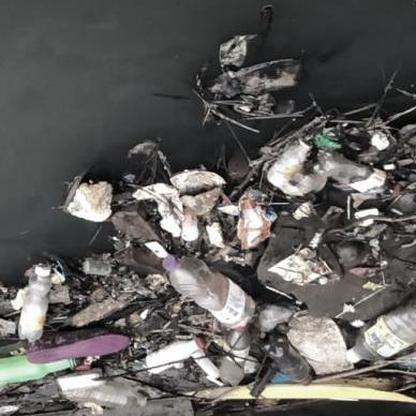plastic bottle: (161, 253, 257, 326), (346, 292, 416, 363), (18, 264, 51, 341), (267, 334, 312, 385)
